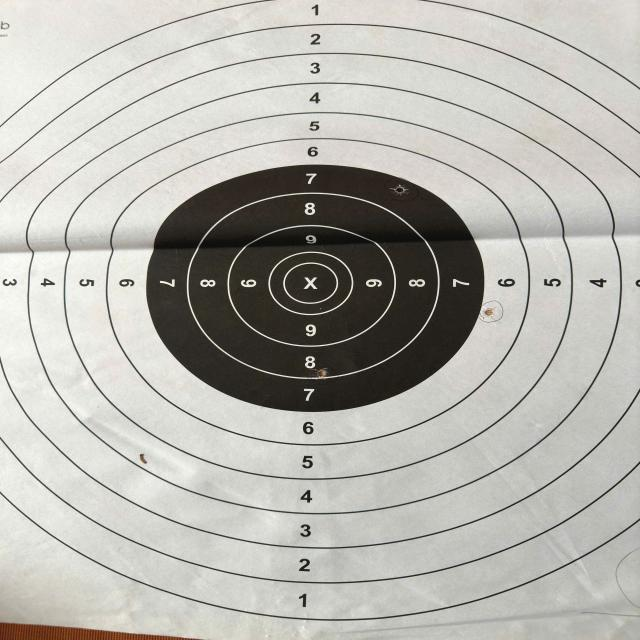bullet: (316, 368, 328, 380), (140, 452, 148, 464), (396, 184, 404, 192), (485, 308, 492, 316)
target: (4, 0, 636, 636)
